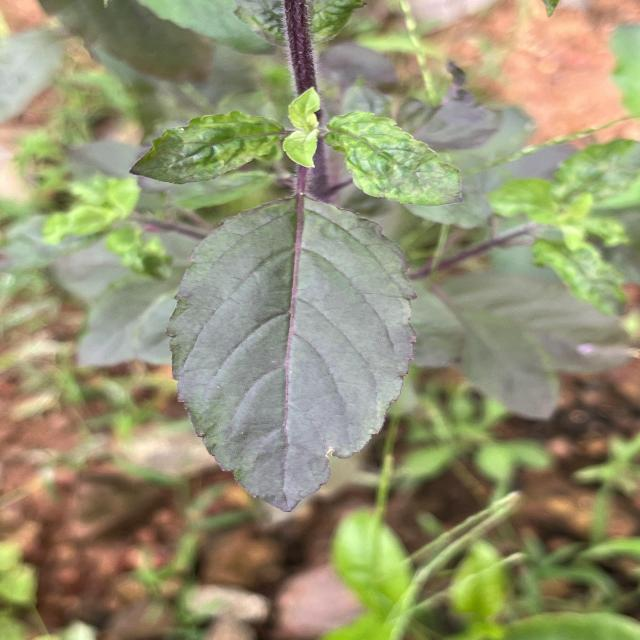Ocimum tenuiflorum: (158, 190, 422, 516)
